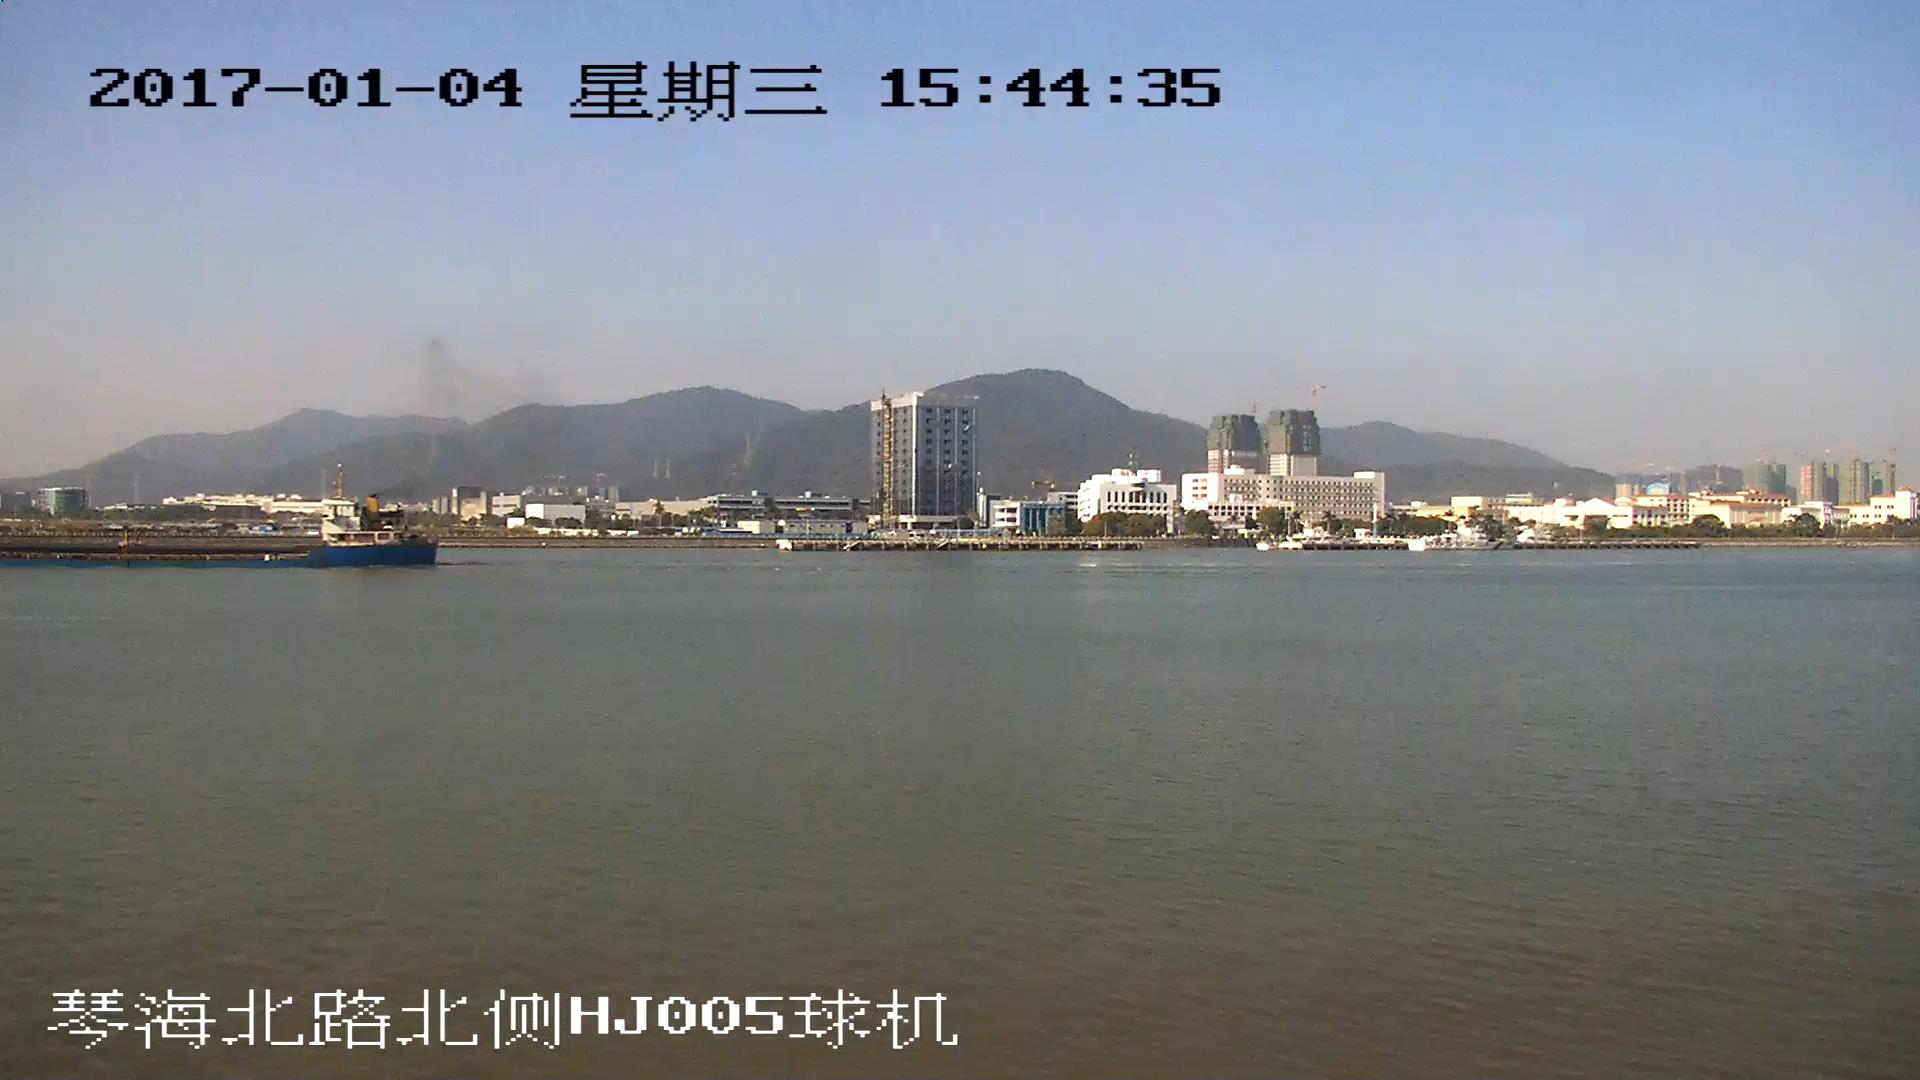general cargo ship: (1, 473, 440, 569)
